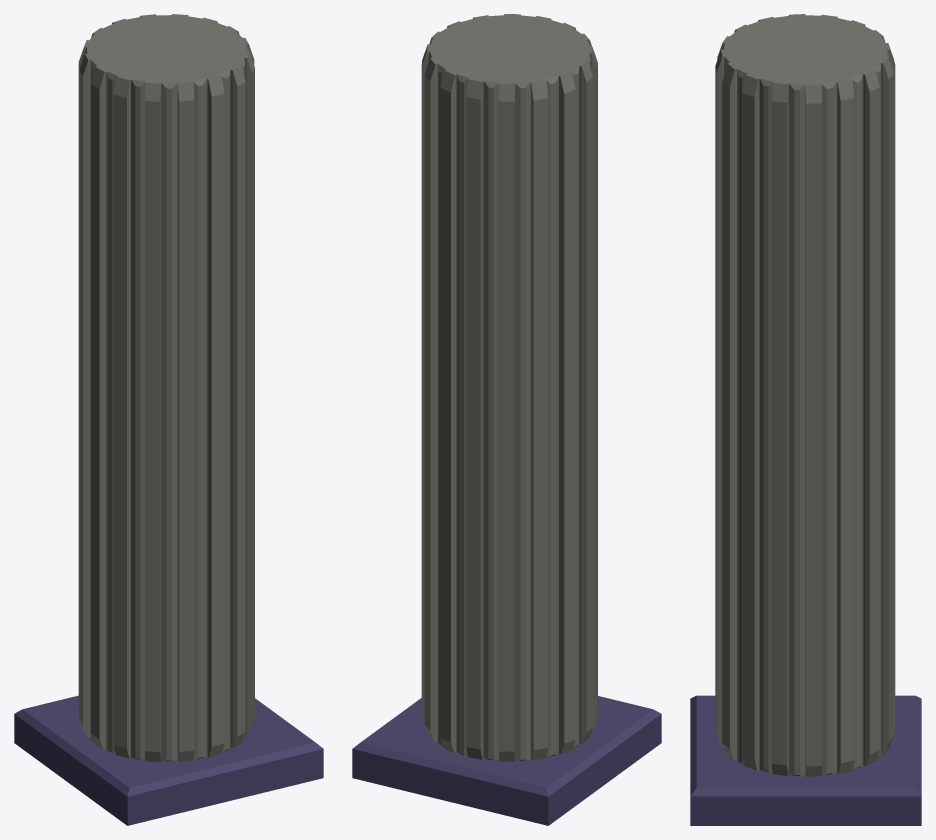
The model's file is Pillar.fbx.
The picture shows the model from 3 angles, left to right: view 1: azimuth 30°, elevation 25°; view 2: azimuth 150°, elevation 25°; view 3: azimuth 270°, elevation 25°; orthographic projection.
Parts seen in each view (by area): view 1: Pillar; view 2: Pillar; view 3: Pillar.
Boxes of the visible parts, x1,y1,x2,y2 form: Pillar: (14, 14, 323, 825); Pillar: (352, 14, 661, 825); Pillar: (690, 14, 921, 825).
Size of the model in its own units: 2.21 by 7.67 by 2.21.
